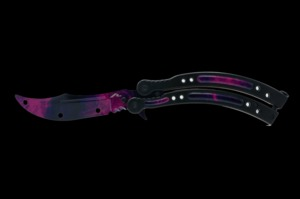knife: (9, 69, 288, 127)
